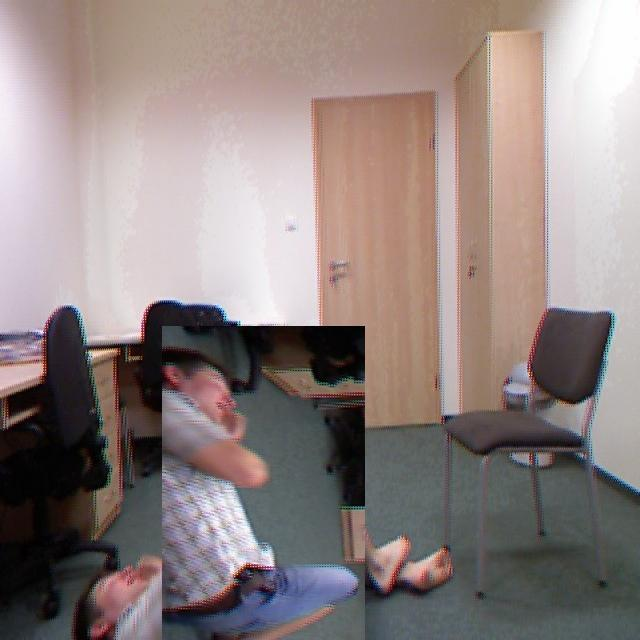Fall: (148, 342, 385, 640)
